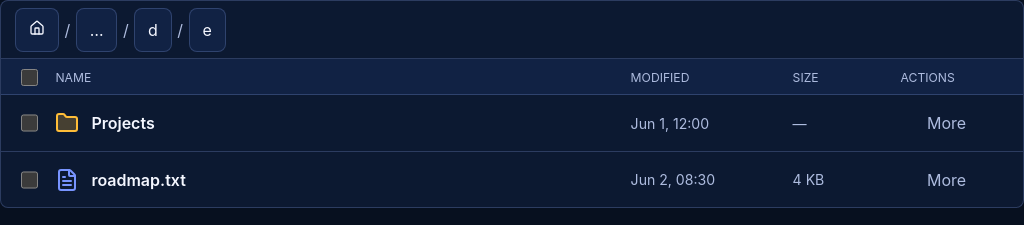
FileListStage › folds deep paths under an expandable ellipsis
This screenshot has width=1024, height=225.
expect the button named "Go to home folder" is shown: met, box x1=15 y1=8 x2=59 y2=52
expect the button named "Go to /a/b/c/d" is shown: met, box x1=134 y1=8 x2=172 y2=52
Click the button named "Show all folders in this path".
click(97, 30)  # box x1=76 y1=8 x2=117 y2=52
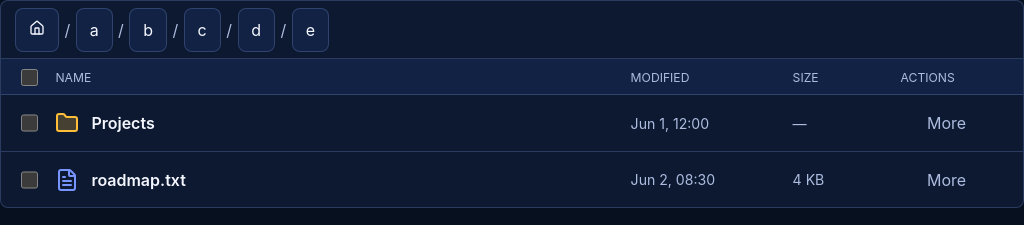
expect the button named "Go to /a/b" is shown: met, box x1=130 y1=8 x2=167 y2=52
expect the button named "Go to /a/b/c" is shown: met, box x1=184 y1=8 x2=220 y2=52
